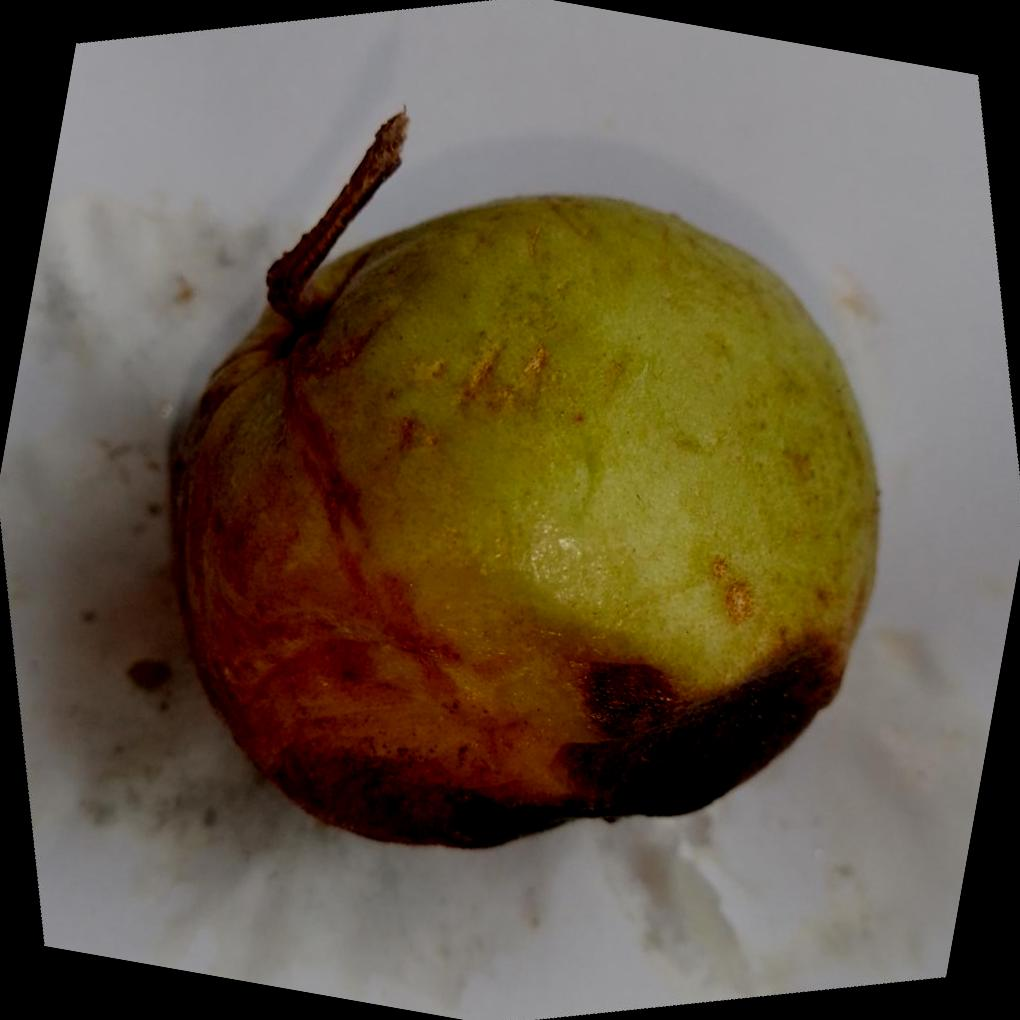FreshOrange: (169, 189, 879, 848)
